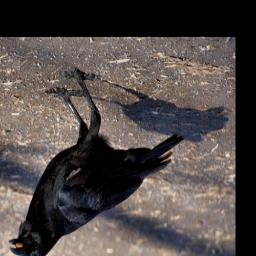Crow: (8, 67, 184, 256)
